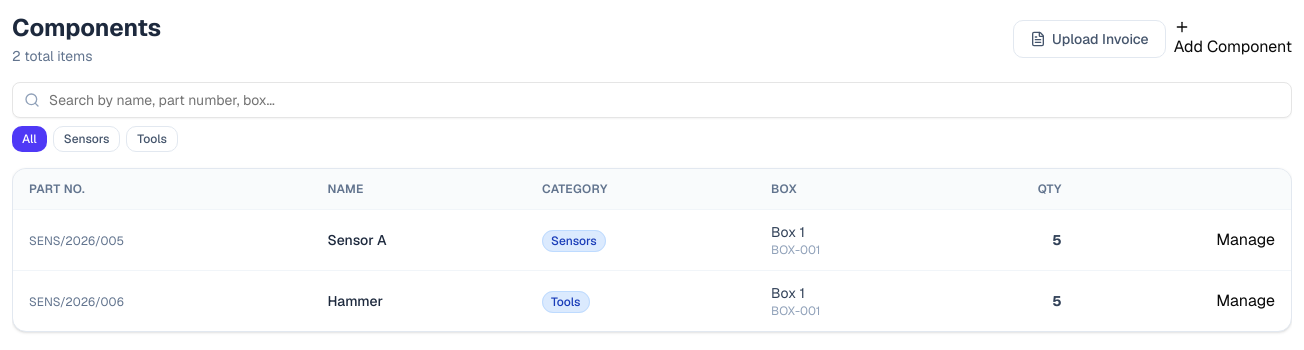
Test: ComponentsClient category filter › combines category filter with free-text search
Click the button "Tools" at (152, 139), box [126,126,178,152]
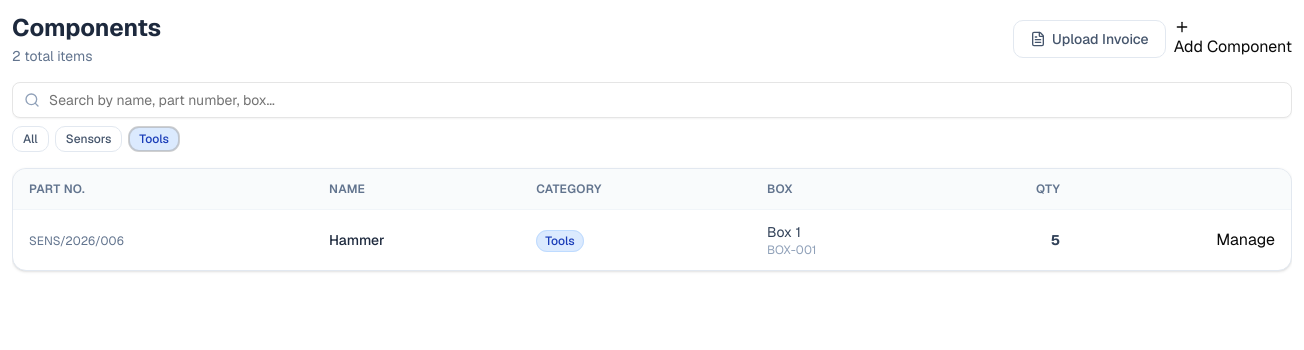
Type "sensor" into the field with placeholder "Search by name, part number, box..." at (652, 100), box [12,82,1292,118]
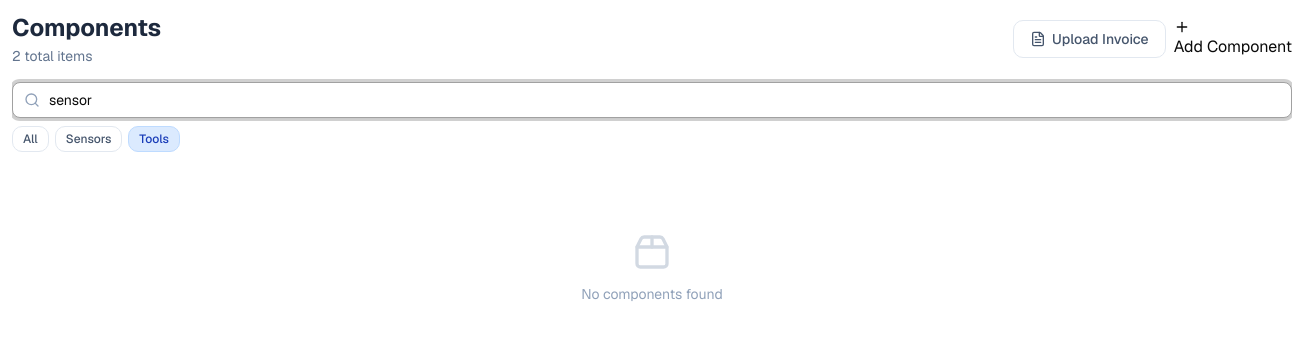
Check: the text "No components found" is shown, box [581,285,723,303]
